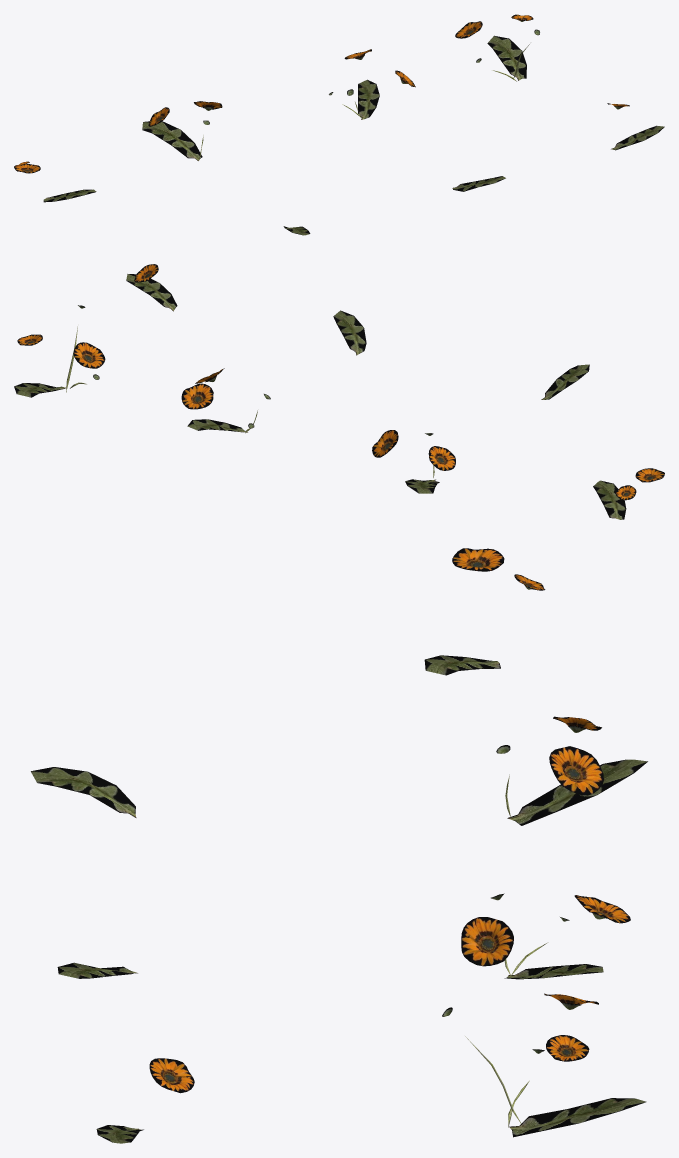
The model's file is flower_gazania.glb.
3 views of the same model, one above another, from view 1: azimuth 30°, elevation 25°; view 2: azimuth 150°, elevation 25°; view 3: azimuth 270°, elevation 25° (orthographic). The views are drawn at different scales.
Parts seen in each view (by area): view 1: flower_gazania_a_LOD0; view 2: flower_gazania_a_LOD0; view 3: flower_gazania_a_LOD0.
Part boxes in pixels (<box>): flower_gazania_a_LOD0: <box>14,14,664,235</box>; flower_gazania_a_LOD0: <box>14,264,664,519</box>; flower_gazania_a_LOD0: <box>31,548,647,1143</box>.
Size of the model in its own units: 1.4 by 0.1517 by 0.6734.
1 material, 1 textured.
